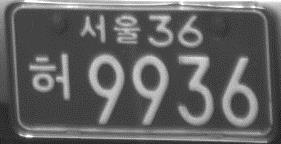3: (176, 54, 214, 127), (146, 13, 174, 48)
6: (221, 52, 260, 126), (176, 12, 205, 49)
9: (129, 53, 170, 126), (88, 53, 126, 126)
서울_O: (79, 12, 142, 47)
허: (27, 52, 71, 101)
